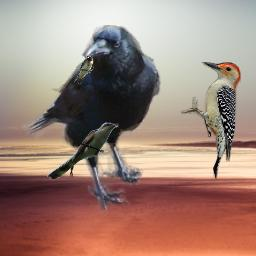Crow: (16, 17, 161, 214)
Cuckoo: (47, 122, 119, 179)
Swallow: (74, 55, 94, 84)
Woodpecker: (181, 62, 241, 179)
